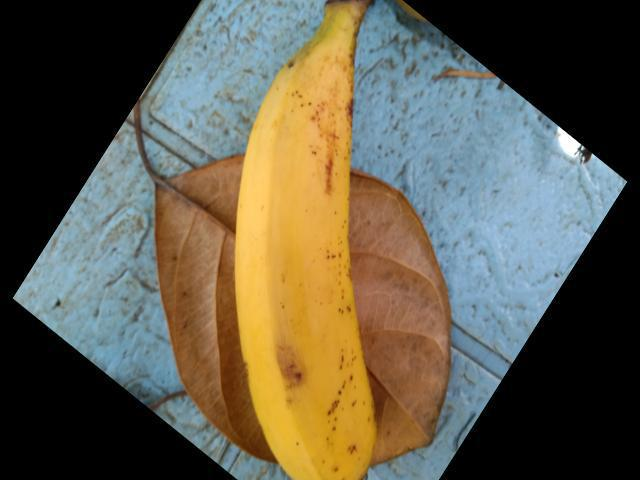ripe: (210, 39, 411, 479)
